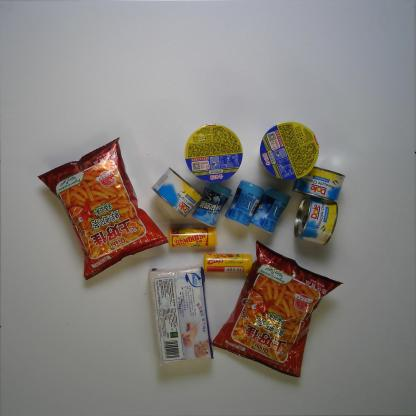Candy: (169, 226, 218, 249), (203, 252, 252, 275)
Canned Food: (151, 166, 201, 218), (294, 196, 338, 245), (291, 166, 346, 200)
Gum: (249, 186, 292, 235), (192, 180, 233, 228), (224, 179, 264, 227)
Instant Noodles: (257, 121, 319, 181), (184, 122, 243, 184)
Puffed Food: (208, 239, 345, 380), (37, 135, 169, 281)
Tissue: (148, 263, 214, 366)
